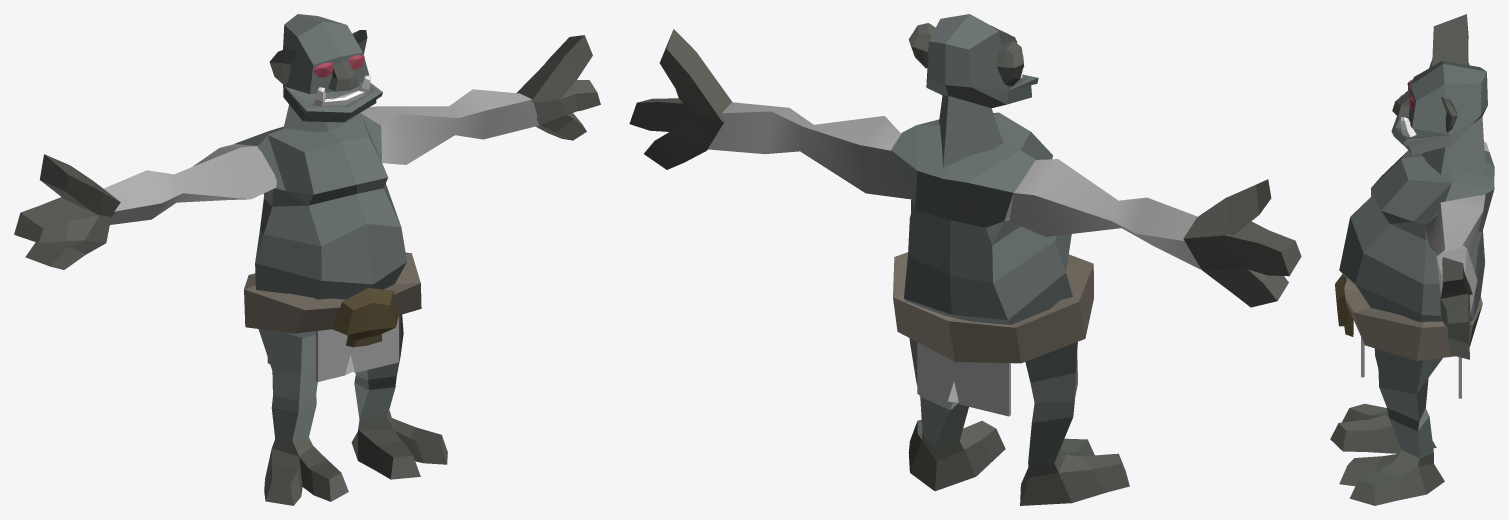
Rendered from Monster.fbx.
3 views of the same model, side by side, from view 1: azimuth 30°, elevation 25°; view 2: azimuth 150°, elevation 25°; view 3: azimuth 270°, elevation 25° (orthographic). The views are drawn at different scales.
Parts seen in each view (by area): view 1: pCube3; view 2: pCube3; view 3: pCube3.
Part boxes in pixels (x1,y1,x2,y2): pCube3: (14,14,600,505); pCube3: (629,14,1301,505); pCube3: (1330,14,1494,505).
Bounding box in the file's own units: 24.59 × 17.28 × 6.39.
